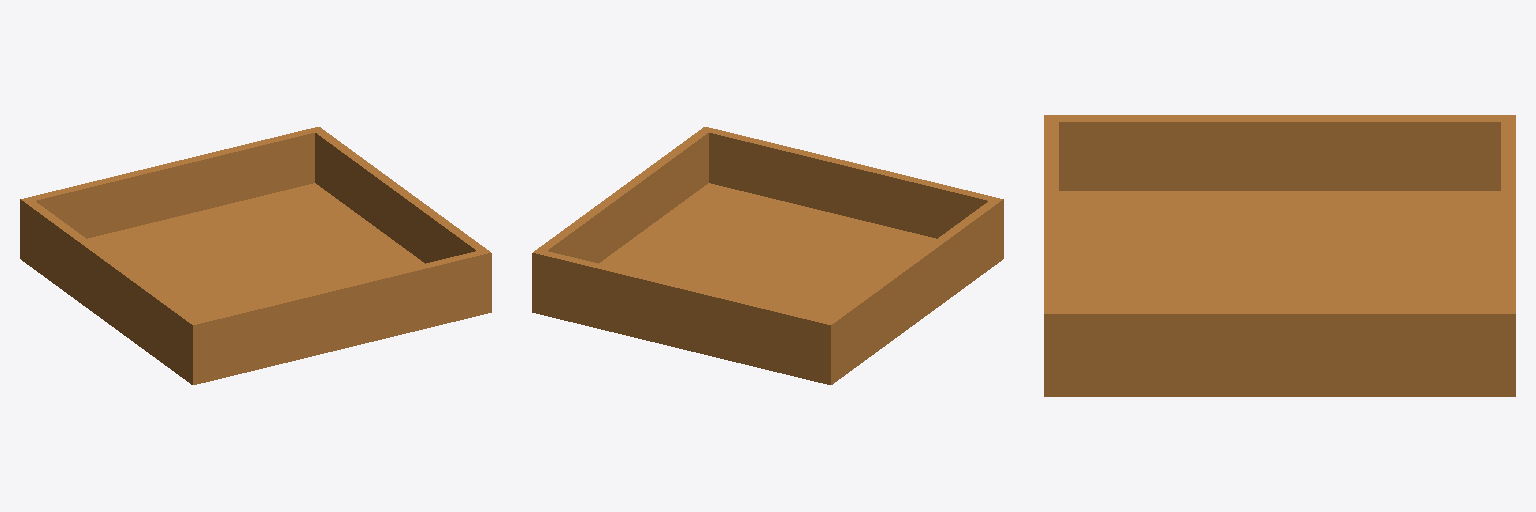
URDF robot description (four_leg_receptive_sdf_hybrid):
<?xml version='1.0' encoding='utf-8'?>
<robot name="four_leg_receptive_sdf_hybrid">
  <link name="receptive">
    <visual>
      <origin xyz="0.000000 0.000000 -0.013125" rpy="0.000000 0.000000 0.000000" />
      <geometry>
        <box size="0.162500 0.162501 0.005000" />
      </geometry>
      <material name="bulk" />
    </visual>
    <collision>
      <origin xyz="0.000000 0.000000 -0.013125" rpy="0.000000 0.000000 0.000000" />
      <geometry>
        <box size="0.162500 0.162501 0.005000" />
      </geometry>
    </collision>
    <visual>
      <origin xyz="0.000000 0.078751 0.002500" rpy="0.000000 0.000000 0.000000" />
      <geometry>
        <box size="0.162500 0.005000 0.026250" />
      </geometry>
      <material name="bulk" />
    </visual>
    <collision>
      <origin xyz="0.000000 0.078751 0.002500" rpy="0.000000 0.000000 0.000000" />
      <geometry>
        <box size="0.162500 0.005000 0.026250" />
      </geometry>
    </collision>
    <visual>
      <origin xyz="0.000000 -0.078751 0.002500" rpy="0.000000 0.000000 0.000000" />
      <geometry>
        <box size="0.162500 0.005000 0.026250" />
      </geometry>
      <material name="bulk" />
    </visual>
    <collision>
      <origin xyz="0.000000 -0.078751 0.002500" rpy="0.000000 0.000000 0.000000" />
      <geometry>
        <box size="0.162500 0.005000 0.026250" />
      </geometry>
    </collision>
    <visual>
      <origin xyz="0.078750 0.000000 0.002500" rpy="0.000000 0.000000 0.000000" />
      <geometry>
        <box size="0.005000 0.152501 0.026250" />
      </geometry>
      <material name="bulk" />
    </visual>
    <collision>
      <origin xyz="0.078750 0.000000 0.002500" rpy="0.000000 0.000000 0.000000" />
      <geometry>
        <box size="0.005000 0.152501 0.026250" />
      </geometry>
    </collision>
    <visual>
      <origin xyz="-0.078750 0.000000 0.002500" rpy="0.000000 0.000000 0.000000" />
      <geometry>
        <box size="0.005000 0.152501 0.026250" />
      </geometry>
      <material name="bulk" />
    </visual>
    <collision>
      <origin xyz="-0.078750 0.000000 0.002500" rpy="0.000000 0.000000 0.000000" />
      <geometry>
        <box size="0.005000 0.152501 0.026250" />
      </geometry>
    </collision>
    <visual>
      <origin xyz="0.000000 0.000000 0.000000" rpy="0.000000 0.000000 0.000000" />
      <geometry>
        <mesh filename="../hole_patches/sdf_hybrid/one_leg_hole_detail.obj" scale="1 1 1" />
      </geometry>
      <material name="hole_detail" />
    </visual>
    <collision>
      <origin xyz="0.000000 0.000000 0.000000" rpy="0.000000 0.000000 0.000000" />
      <geometry>
        <mesh filename="../hole_patches/sdf_hybrid/one_leg_hole_detail.obj" scale="1 1 1" />
      </geometry>
      <sdf resolution="256" />
    </collision>
    <visual name="one_leg_hole_detail_socket_1">
      <origin xyz="0.1125 0.0 0.0" rpy="0.000000 0.000000 0.000000" />
      <geometry>
        <mesh filename="../hole_patches/sdf_hybrid/one_leg_hole_detail_socket_1.obj" scale="1 1 1" />
      </geometry>
      <material name="hole_detail" />
    </visual>
    <collision name="one_leg_hole_detail_socket_1">
      <origin xyz="0.1125 0.0 0.0" rpy="0.000000 0.000000 0.000000" />
      <geometry>
        <mesh filename="../hole_patches/sdf_hybrid/one_leg_hole_detail_socket_1.obj" scale="1 1 1" />
      </geometry>
      <sdf resolution="256" />
    </collision>
    <visual name="one_leg_hole_detail_socket_2">
      <origin xyz="0.0 -0.1125 0.0" rpy="0.000000 0.000000 0.000000" />
      <geometry>
        <mesh filename="../hole_patches/sdf_hybrid/one_leg_hole_detail_socket_2.obj" scale="1 1 1" />
      </geometry>
      <material name="hole_detail" />
    </visual>
    <collision name="one_leg_hole_detail_socket_2">
      <origin xyz="0.0 -0.1125 0.0" rpy="0.000000 0.000000 0.000000" />
      <geometry>
        <mesh filename="../hole_patches/sdf_hybrid/one_leg_hole_detail_socket_2.obj" scale="1 1 1" />
      </geometry>
      <sdf resolution="256" />
    </collision>
    <visual name="one_leg_hole_detail_socket_3">
      <origin xyz="0.1125 -0.1125 0.0" rpy="0.000000 0.000000 0.000000" />
      <geometry>
        <mesh filename="../hole_patches/sdf_hybrid/one_leg_hole_detail_socket_3.obj" scale="1 1 1" />
      </geometry>
      <material name="hole_detail" />
    </visual>
    <collision name="one_leg_hole_detail_socket_3">
      <origin xyz="0.1125 -0.1125 0.0" rpy="0.000000 0.000000 0.000000" />
      <geometry>
        <mesh filename="../hole_patches/sdf_hybrid/one_leg_hole_detail_socket_3.obj" scale="1 1 1" />
      </geometry>
      <sdf resolution="256" />
    </collision>
  </link>
  <material name="bulk">
    <color rgba="0.78 0.55 0.30 1.0" />
  </material>
  <material name="hole_detail">
    <color rgba="0.30 0.65 0.85 1.0" />
  </material>
</robot>

--- Facts derived from the render (not from the file) ---
The picture shows the robot from 3 angles, left to right: view 1: azimuth 30°, elevation 25°; view 2: azimuth 150°, elevation 25°; view 3: azimuth 270°, elevation 25°; orthographic projection.
Robot: four_leg_receptive_sdf_hybrid — 1 links, 0 joints (none); root link receptive; default pose: all joints at 0.
Visible links, largest first — view 1: receptive; view 2: receptive; view 3: receptive.
Link boxes in pixels (<box>): receptive: <box>20,127,491,384</box>; receptive: <box>532,127,1003,384</box>; receptive: <box>1044,115,1515,396</box>.
Size in the robot's own frame: 0.1625 by 0.1625 by 0.0312 metres.
0 mesh visuals loaded from 4 distinct referenced files (none loaded); not drawn: 4 (reference not matched to a file when rendering).
